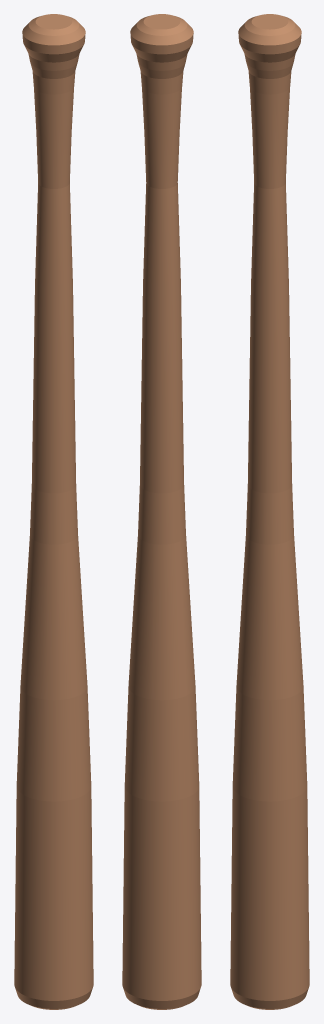
3 renders of one model, left to right at view 1: azimuth 90°, elevation 25°; view 2: azimuth 150°, elevation 25°; view 3: azimuth 270°, elevation 25°, orthographic.
Visible parts, largest first — view 1: wooden_body, rounded_knob; view 2: wooden_body, rounded_knob; view 3: wooden_body, rounded_knob.
Part boxes in pixels (box(x1,y1,x2,y2)): wooden_body: box(14, 88, 93, 1009); rounded_knob: box(22, 14, 85, 94); wooden_body: box(122, 88, 201, 1009); rounded_knob: box(130, 14, 193, 94); wooden_body: box(230, 88, 309, 1009); rounded_knob: box(238, 14, 301, 94).
Bounding box in the file's own units: 0.0627 × 0.85 × 0.0627.
